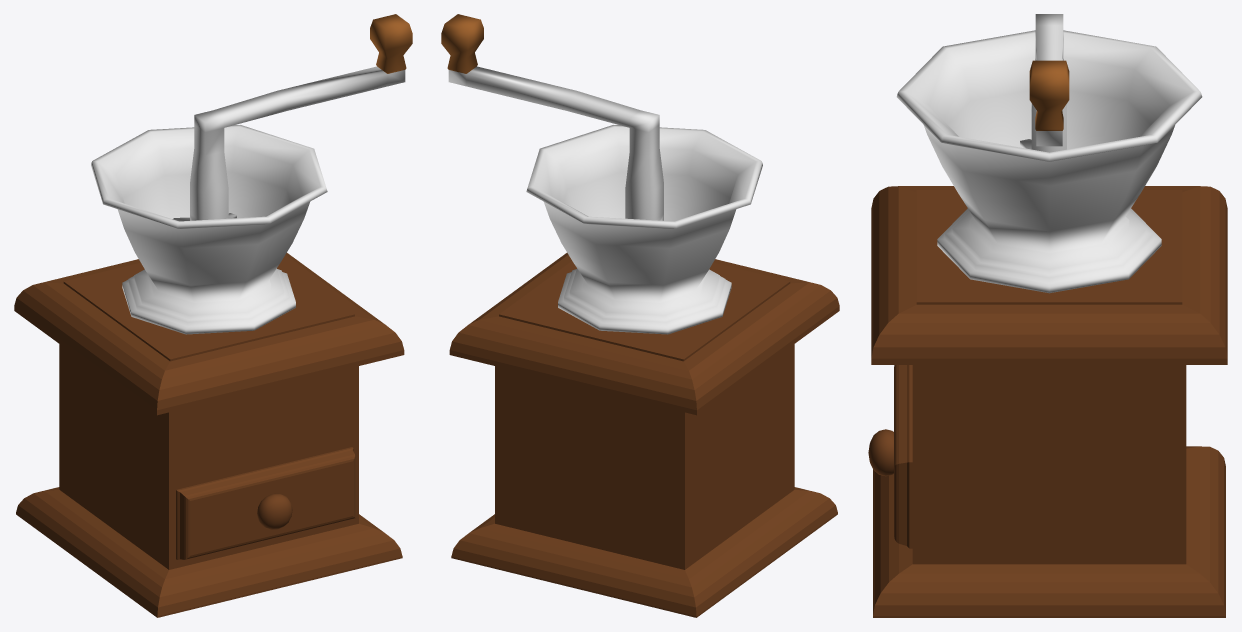
Rendered from Coffee_grinder.fbx.
3 renders of one model, left to right at view 1: azimuth 30°, elevation 25°; view 2: azimuth 150°, elevation 25°; view 3: azimuth 270°, elevation 25°, orthographic. The views are drawn at different scales.
Parts seen in each view (by area): view 1: Coffee_grinder; view 2: Coffee_grinder; view 3: Coffee_grinder.
Part boxes in pixels (x1,y1,x2,y2): Coffee_grinder: [14, 14, 412, 617]; Coffee_grinder: [441, 14, 839, 617]; Coffee_grinder: [868, 14, 1227, 617].
Size of the model in its own units: 29.07 by 40.92 by 22.71.
